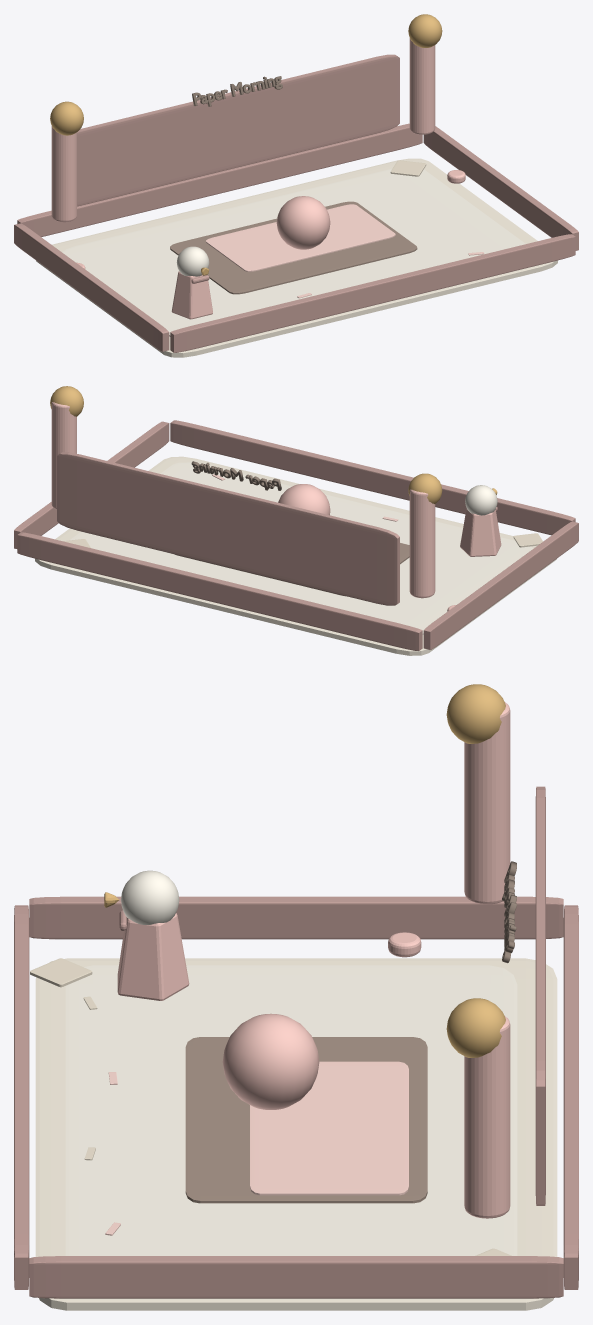
File: 01_scene_settings.glb
3 renders of one model, top to bottom at view 1: azimuth 30°, elevation 25°; view 2: azimuth 150°, elevation 25°; view 3: azimuth 270°, elevation 25°, orthographic. The views are drawn at different scales.
Visible parts, largest first — view 1: BackCard, FloorLayerInset, SouthRail-col, NorthRail-col, PaperFloor-col, StageMat, StageMatHighlight, WestRail-col, EastRail-col, PaperLantern.001, FpeRushPlayer, PaperLantern (+5 smaller); view 2: BackCard, FloorLayerInset, NorthRail-col, SouthRail-col, PaperFloor-col, WestRail-col, PaperLantern, FpeRushPlayer, EastRail-col, PaperLantern.001, ConceptMarker, TitleLabel (+3 smaller); view 3: FloorLayerInset, PaperFloor-col, EastRail-col, WestRail-col, StageMatHighlight, StageMat, PaperLantern.001, PaperLantern, FpeRushPlayer, ConceptMarker, NorthRail-col, SouthRail-col (+5 smaller).
Part boxes in pixels (<box>): BackCard: <box>77,54,399,206</box>; FloorLayerInset: <box>62,168,525,336</box>; SouthRail-col: <box>170,234,575,352</box>; NorthRail-col: <box>17,123,422,236</box>; PaperFloor-col: <box>36,158,557,357</box>; StageMat: <box>170,201,417,294</box>; StageMatHighlight: <box>206,204,395,271</box>; WestRail-col: <box>14,223,169,351</box>; EastRail-col: <box>423,126,578,250</box>; PaperLantern.001: <box>409,38,435,134</box>; FpeRushPlayer: <box>171,246,212,319</box>; PaperLantern: <box>51,126,76,222</box>; BackCard: <box>57,452,399,605</box>; FloorLayerInset: <box>70,462,533,634</box>; NorthRail-col: <box>17,532,422,650</box>; SouthRail-col: <box>170,420,575,535</box>; PaperFloor-col: <box>35,456,556,655</box>; WestRail-col: <box>423,521,578,649</box>; PaperLantern: <box>409,489,435,598</box>; FpeRushPlayer: <box>460,485,501,556</box>; EastRail-col: <box>14,421,169,548</box>; PaperLantern.001: <box>51,402,76,509</box>; ConceptMarker: <box>278,484,330,515</box>; TitleLabel: <box>191,461,281,490</box>; FloorLayerInset: <box>65,965,517,1255</box>; PaperFloor-col: <box>35,958,557,1310</box>; EastRail-col: <box>29,1256,563,1298</box>; WestRail-col: <box>29,896,563,939</box>; StageMatHighlight: <box>250,1061,408,1195</box>; StageMat: <box>185,1037,427,1203</box>; PaperLantern.001: <box>464,1016,510,1218</box>; PaperLantern: <box>464,702,510,904</box>; FpeRushPlayer: <box>104,870,189,1000</box>; ConceptMarker: <box>222,1013,319,1109</box>; NorthRail-col: <box>563,905,578,1289</box>; SouthRail-col: <box>14,905,29,1289</box>.
Bounding box in the file's own units: 6.8 × 2.56 × 4.44.
